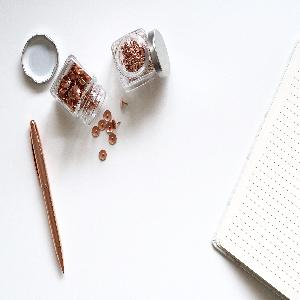pen: (23, 119, 72, 275)
